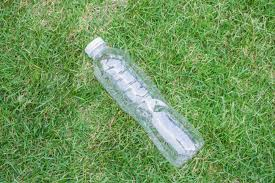plastic_bottle: (84, 37, 205, 169)
